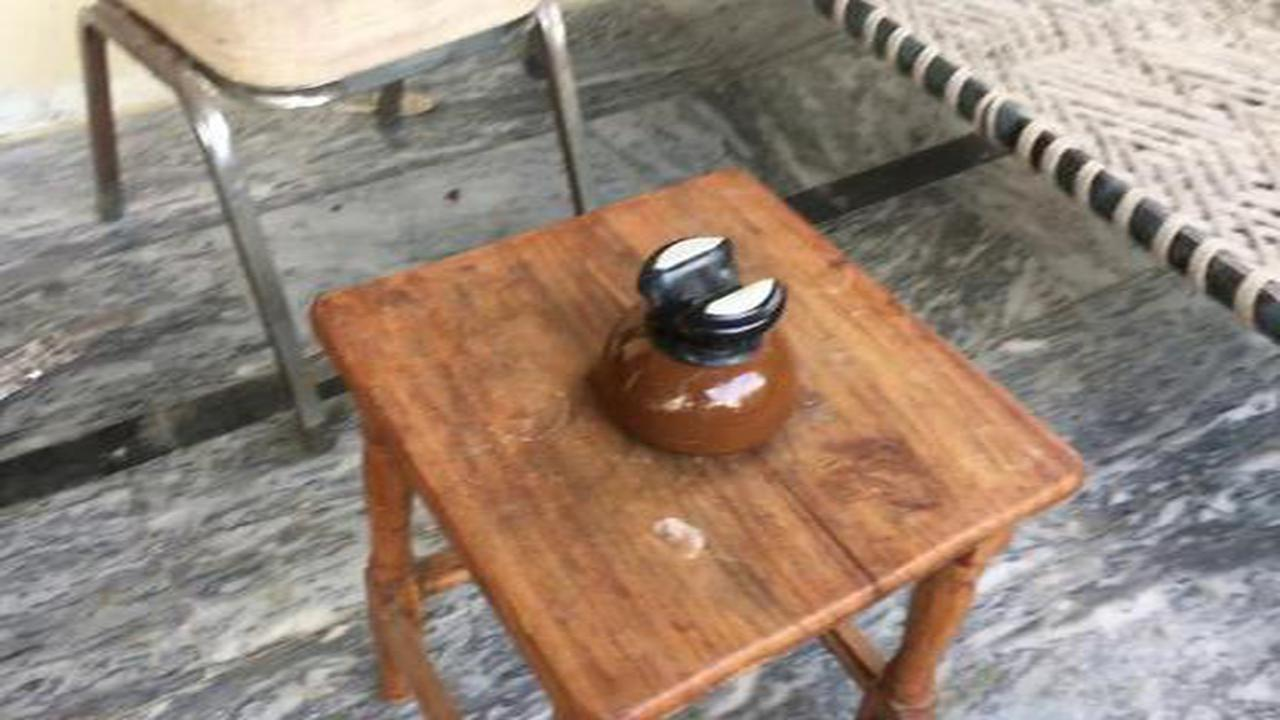insulator_pin: (573, 220, 825, 475)
